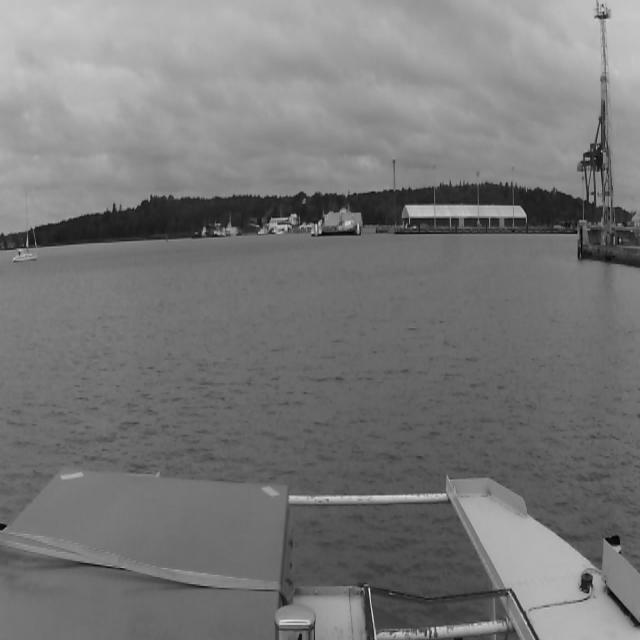ship: (11, 178, 40, 262)
